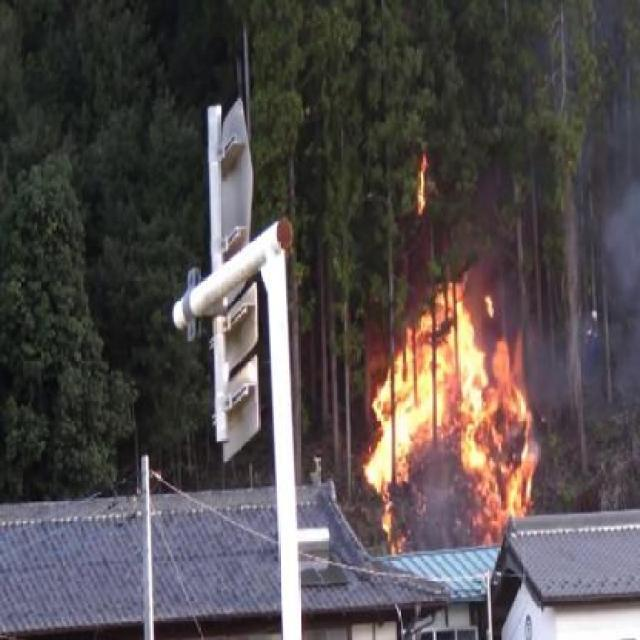Fire: (372, 276, 540, 570), (408, 145, 436, 218)
